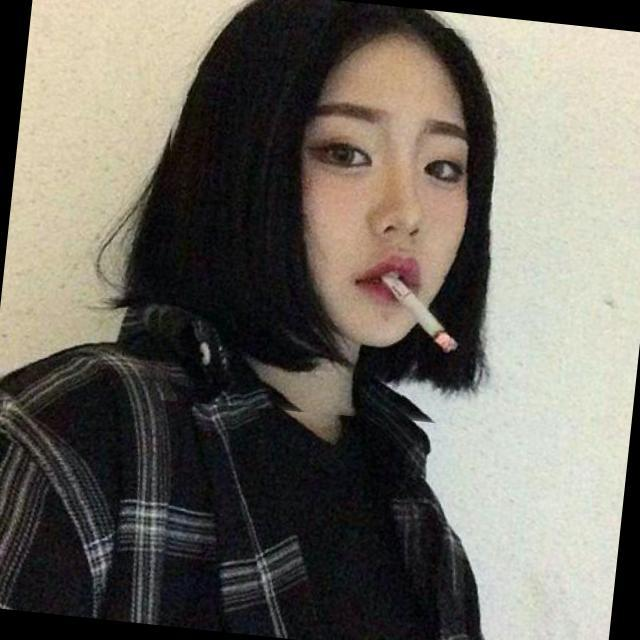cigarette: (348, 264, 478, 376)
